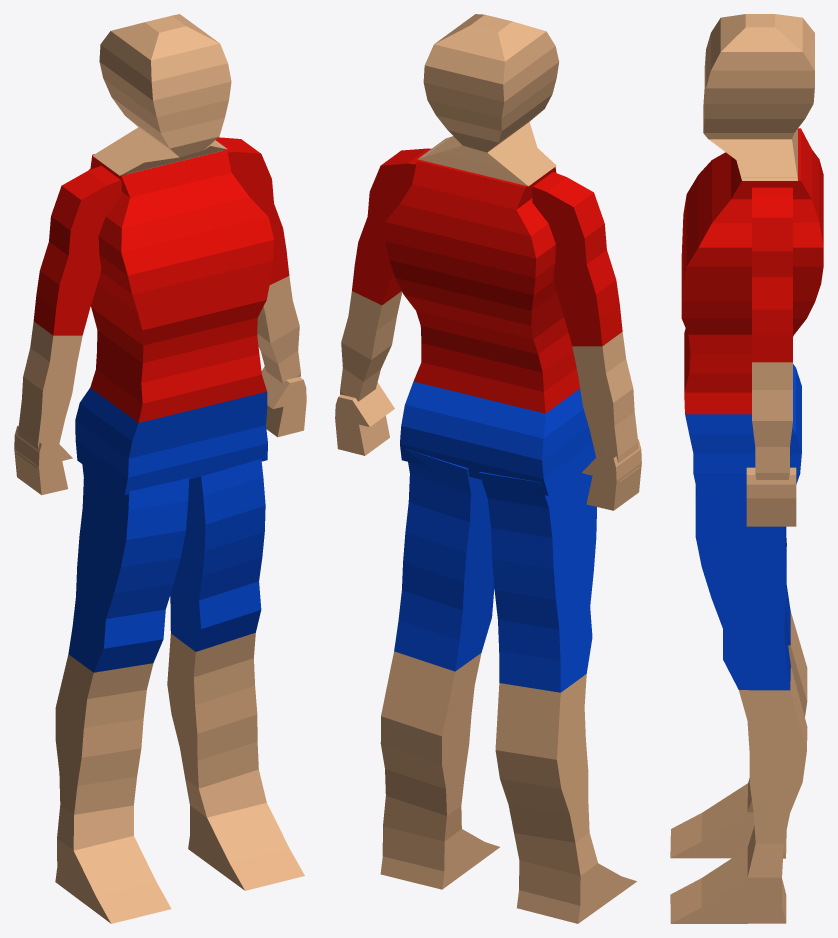
Rendered from Colored Basic Man.fbx.
The picture shows the model from 3 angles, left to right: view 1: azimuth 30°, elevation 25°; view 2: azimuth 150°, elevation 25°; view 3: azimuth 270°, elevation 25°; orthographic projection. The views are drawn at different scales.
Parts seen in each view (by area): view 1: Body, Right Leg, Left Leg, Head, Right Arm, Left Arm, Right Hand, Left Hand; view 2: Body, Right Leg, Left Leg, Head, Right Arm, Left Arm, Left Hand, Right Hand; view 3: Left Leg, Body, Head, Left Arm, Right Leg, Left Hand.
Part boxes in pixels (box(x1,y1,x2,y2)): Body: box(75, 150, 274, 494); Right Leg: box(55, 464, 189, 923); Left Leg: box(167, 459, 304, 890); Head: box(92, 14, 231, 175); Right Arm: box(17, 165, 121, 468); Left Arm: box(216, 137, 300, 383); Right Hand: box(14, 425, 72, 495); Left Hand: box(261, 366, 306, 437); Body: box(385, 159, 595, 495); Right Leg: box(479, 470, 636, 923); Left Leg: box(380, 449, 499, 889); Head: box(417, 14, 559, 186); Right Arm: box(532, 172, 639, 482); Left Arm: box(340, 148, 431, 401); Left Hand: box(335, 382, 394, 455); Right Hand: box(582, 439, 641, 510); Left Leg: box(670, 487, 807, 923); Body: box(681, 128, 823, 493); Head: box(703, 14, 814, 180); Left Arm: box(752, 187, 792, 479); Right Leg: box(670, 485, 807, 858); Left Hand: box(746, 467, 796, 526).
Size of the model in its own units: 48.26 by 144 by 23.27.
